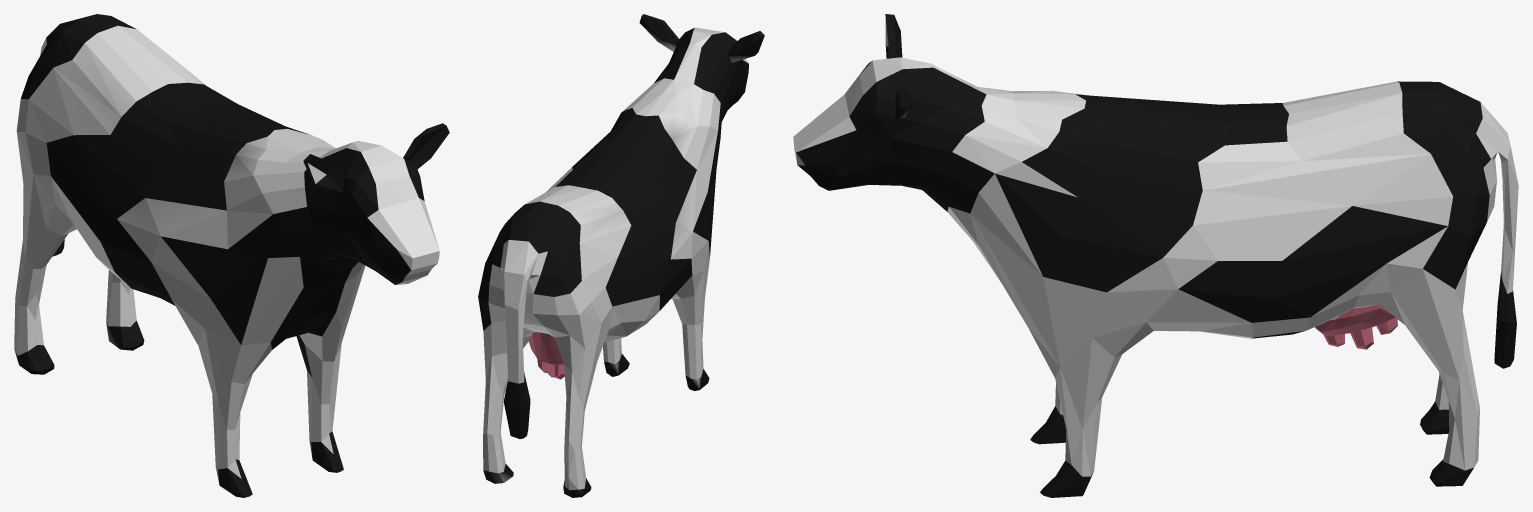
Rendered from cow.fbx.
The picture shows the model from 3 angles, left to right: view 1: azimuth 30°, elevation 25°; view 2: azimuth 150°, elevation 25°; view 3: azimuth 270°, elevation 25°; orthographic projection. The views are drawn at different scales.
Visible parts, largest first — view 1: cow; view 2: cow; view 3: cow.
Boxes of the visible parts, x1,y1,x2,y2 form: cow: (14,14,449,497); cow: (478,14,764,497); cow: (793,14,1518,497).
Bounding box in the file's own units: 139 × 282 × 430.
